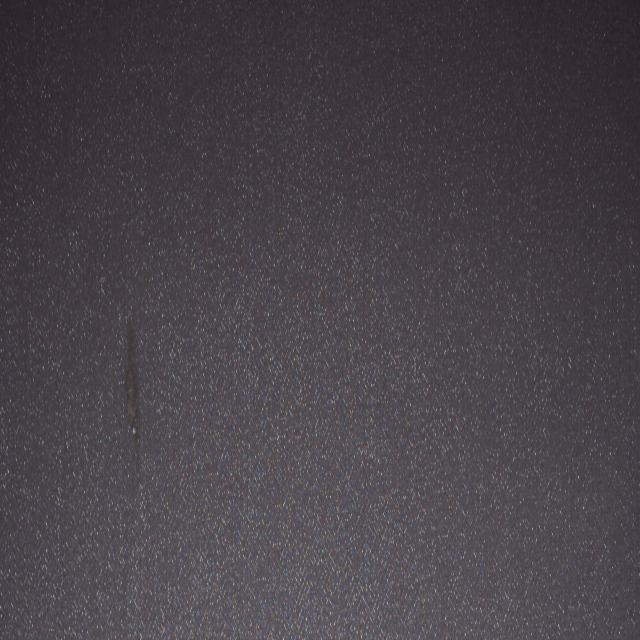Knot: (126, 320, 139, 446)
